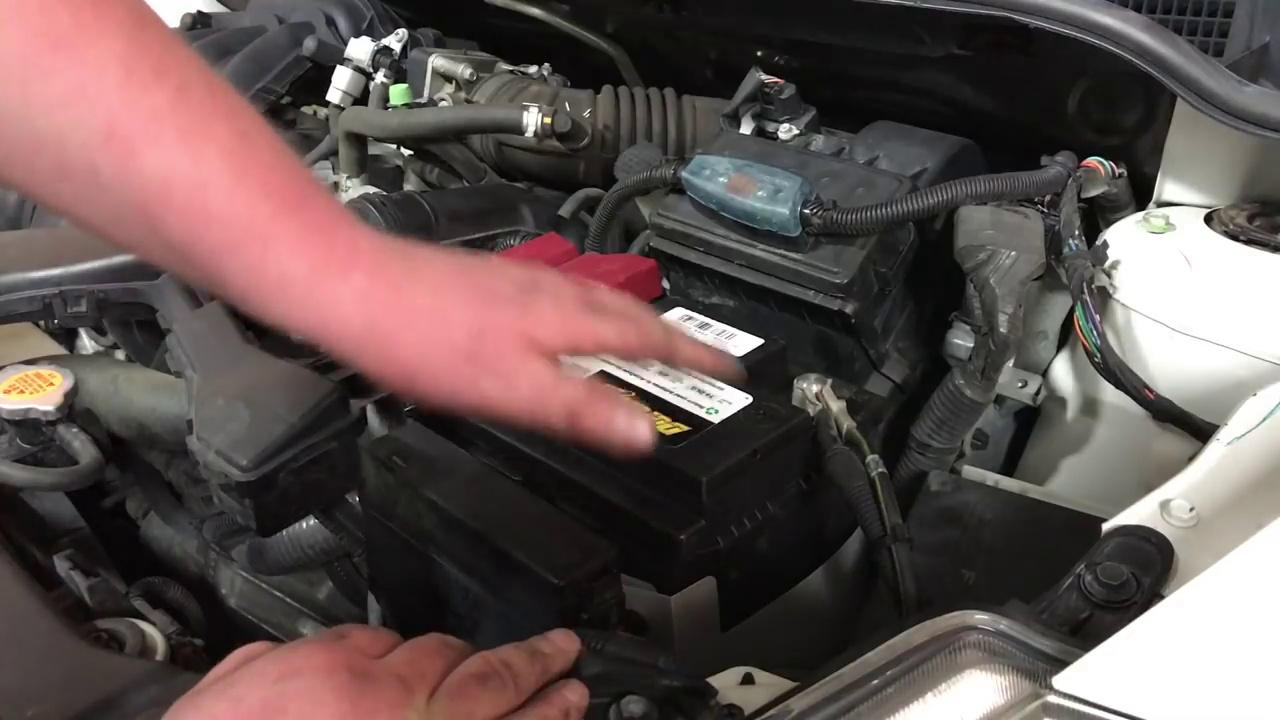battery: (428, 248, 862, 488)
neg_connected: (783, 355, 886, 472)
pos_touched: (482, 218, 666, 327)
